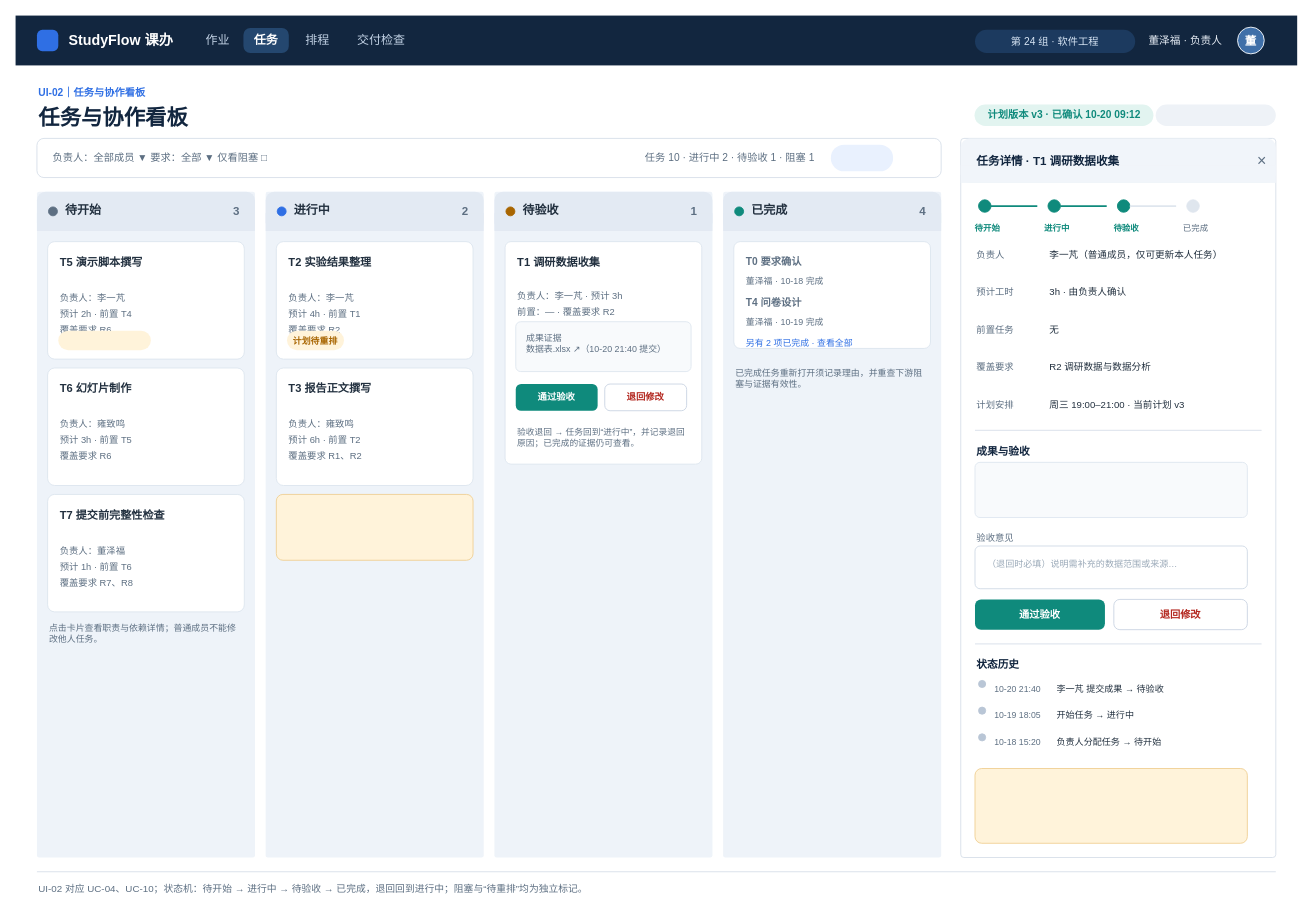
Some shapes in this 1312 by 910 pixel diagram are drawn without their labels. The centre of each missing label's shape, as x and y in pixels:
T2 预计工时由 3h 改为 4h，当前计划待重排；旧安排保留历史，不静默移动。: the point at 374,527
作业：第三次小组作业: the point at 1215,114
当前角色：负责人。可验收他人成果；普通成员只能更新本人任务字段，越权请求由服务端按当前空间权限拒绝，不依赖前端隐藏按钮。: the point at 1110,805
新建任务: the point at 861,157
证据链接：数据表.xlsx ↗ 提交人 李一芃 · 10-20 21:40: the point at 1110,489
阻塞：等待报告定稿: the point at 104,340
